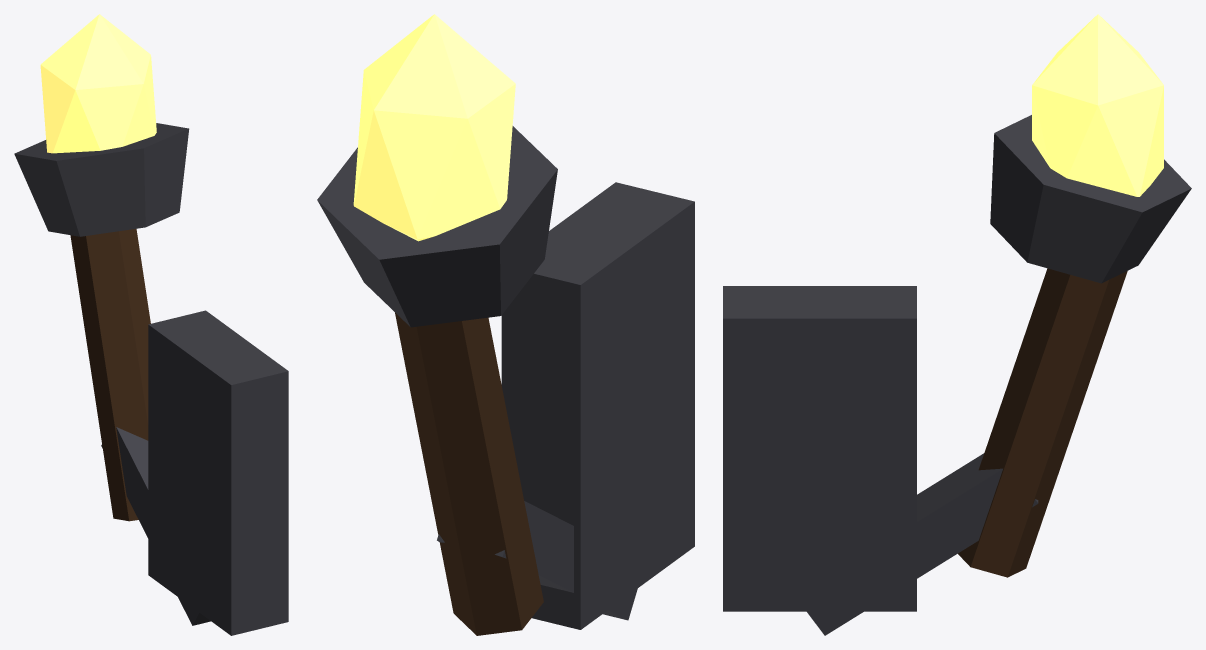
Rendered from torch_sconce.glb.
3 views of the same model, side by side, from view 1: azimuth 30°, elevation 25°; view 2: azimuth 150°, elevation 25°; view 3: azimuth 270°, elevation 25° (orthographic). The views are drawn at different scales.
Visible parts, largest first — view 1: torch_sconce; view 2: torch_sconce; view 3: torch_sconce.
Part boxes in pixels (left/top/right/bottom): torch_sconce: left=14, top=14, right=288, bottom=635; torch_sconce: left=317, top=14, right=694, bottom=635; torch_sconce: left=723, top=14, right=1191, bottom=635.
Size of the model in its own units: 0.2771 by 1.04 by 0.725.
Materials: 2 (1 with a texture image).
